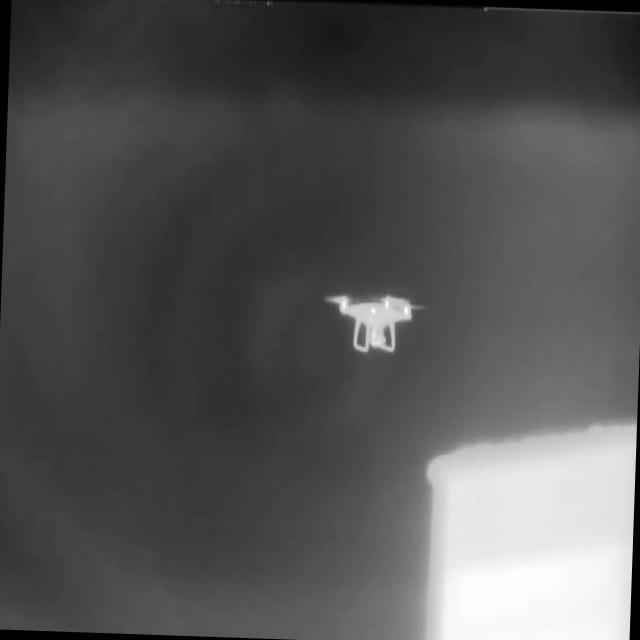DRONE: (320, 289, 430, 354)
